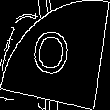O_S: (32, 25, 78, 85)
